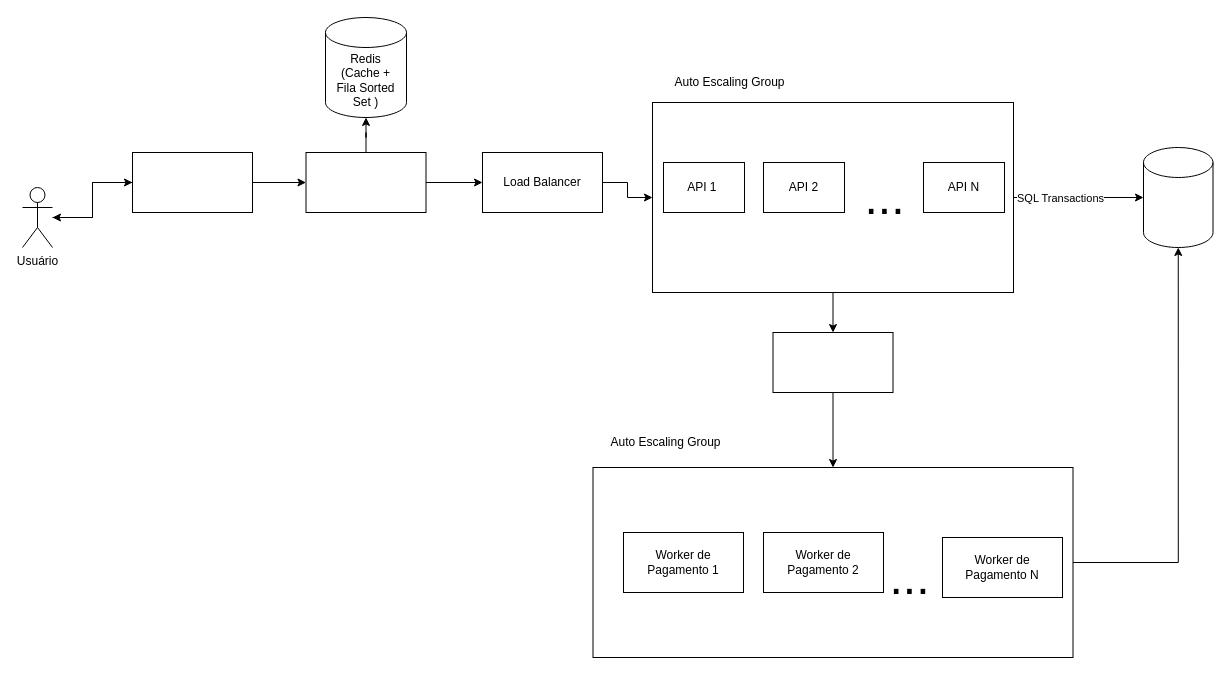
This 1231x675 diagram has some shape labels left out. The shapes that lost their labels are listed below. From the top down, each one's box as (x1, y1, x2, y2) in pixels, then its label:
(132, 152, 252, 212): Navegador com token de sessão
(305, 152, 426, 212): Serviço de fila Virtual
(1142, 146, 1213, 248): Banco de dados SQL
(772, 332, 893, 392): RabbitMQ (Fila)
